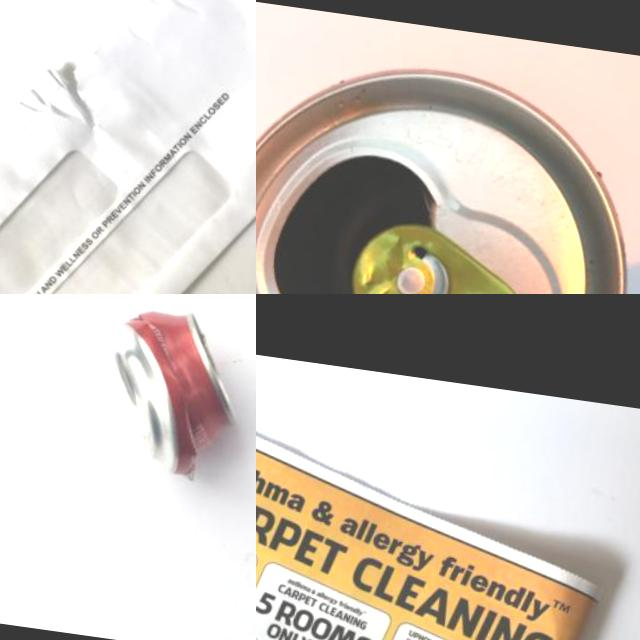aba de lata: (337, 216, 546, 294)
lata: (256, 37, 640, 294), (94, 298, 250, 481)
papel: (256, 361, 619, 640), (0, 0, 256, 294)
